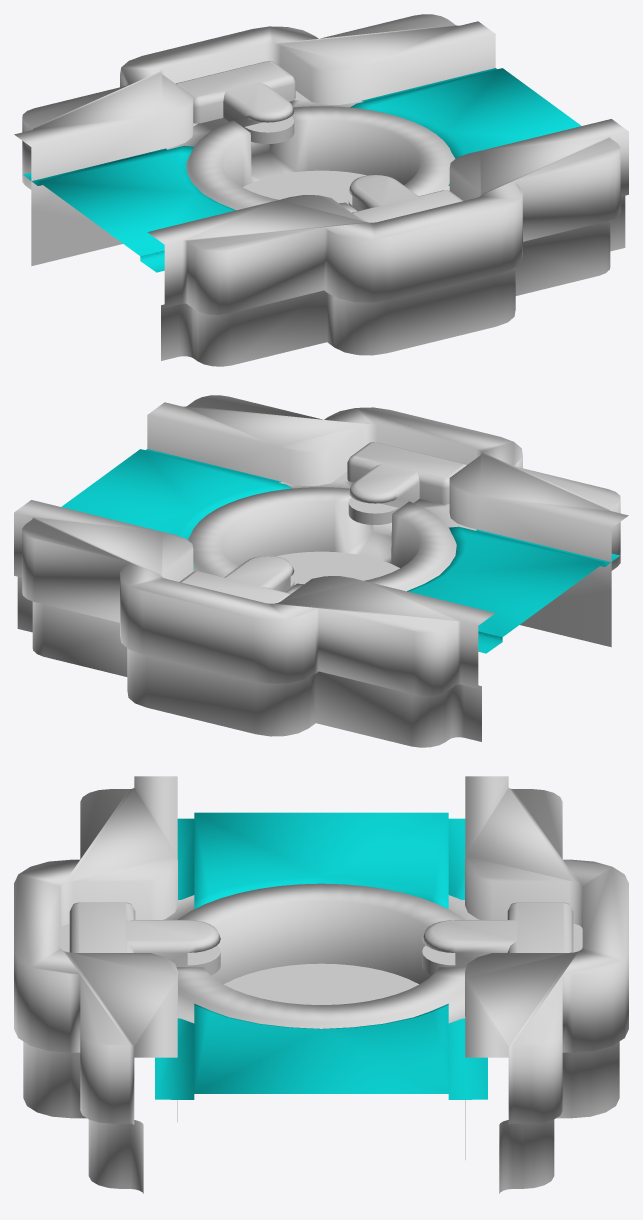
The model's file is PinPusherDefaultInternalVariant.gltf.
The picture shows the model from 3 angles, top to bottom: view 1: azimuth 30°, elevation 25°; view 2: azimuth 150°, elevation 25°; view 3: azimuth 270°, elevation 25°; orthographic projection. The views are drawn at different scales.
Parts seen in each view (by area): view 1: PinPusher_Default_Main_LOD0, PinPusher_Default_ClampR_LOD0, PinPusher_Default_ClampL_LOD0, PinPusher_Default_Rotator_LOD0; view 2: PinPusher_Default_Main_LOD0, PinPusher_Default_ClampL_LOD0, PinPusher_Default_ClampR_LOD0, PinPusher_Default_Rotator_LOD0; view 3: PinPusher_Default_Main_LOD0, PinPusher_Default_ClampR_LOD0, PinPusher_Default_ClampL_LOD0, PinPusher_Default_Rotator_LOD0.
Boxes of the visible parts, box(x1,y1,x2,y2) form: PinPusher_Default_Main_LOD0: box(14, 14, 628, 366); PinPusher_Default_ClampR_LOD0: box(175, 61, 295, 143); PinPusher_Default_ClampL_LOD0: box(348, 175, 462, 222); PinPusher_Default_Rotator_LOD0: box(243, 170, 366, 204); PinPusher_Default_Main_LOD0: box(14, 395, 628, 747); PinPusher_Default_ClampL_LOD0: box(347, 442, 467, 524); PinPusher_Default_ClampR_LOD0: box(180, 556, 294, 603); PinPusher_Default_Rotator_LOD0: box(276, 551, 399, 585); PinPusher_Default_Main_LOD0: box(14, 776, 628, 1193); PinPusher_Default_ClampR_LOD0: box(422, 902, 573, 975); PinPusher_Default_ClampL_LOD0: box(69, 902, 220, 975); PinPusher_Default_Rotator_LOD0: box(224, 963, 418, 1004).
Bounding box in the file's own units: 1 × 0.245 × 0.924.
